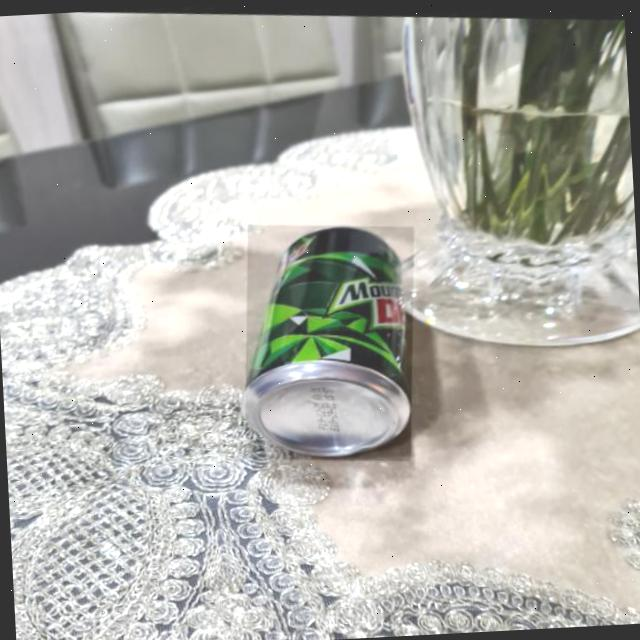trash: (239, 217, 426, 464)
